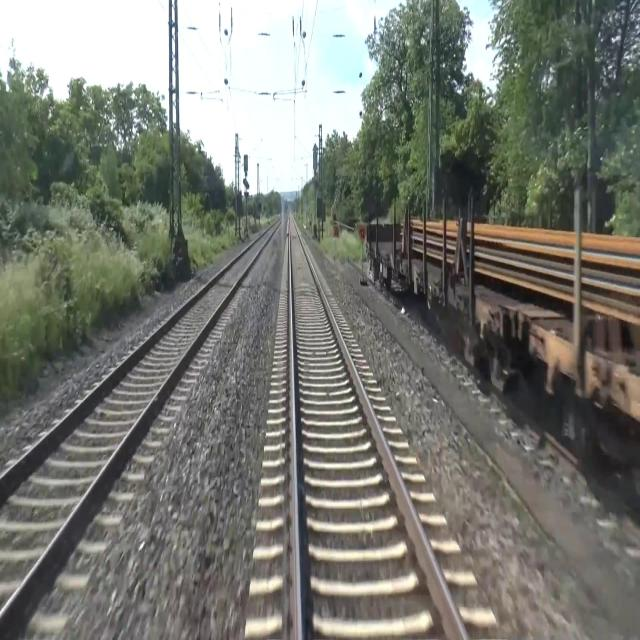rail-track: (0, 216, 282, 610), (289, 213, 465, 639)
